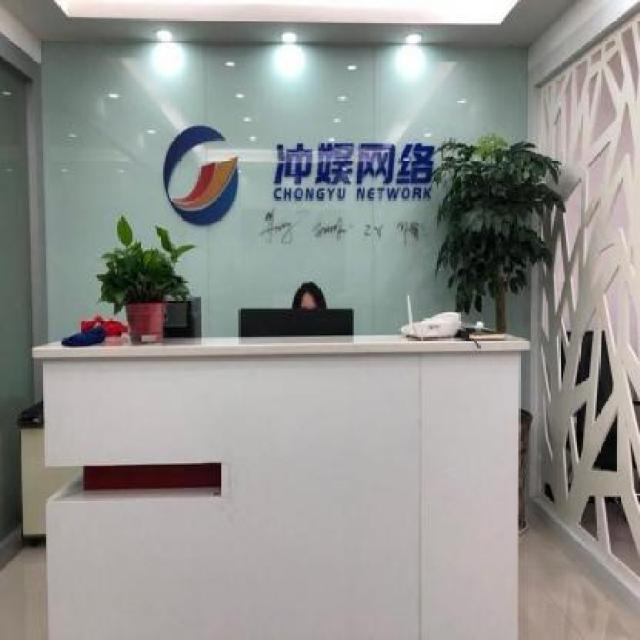frontdesk: (26, 324, 540, 640)
